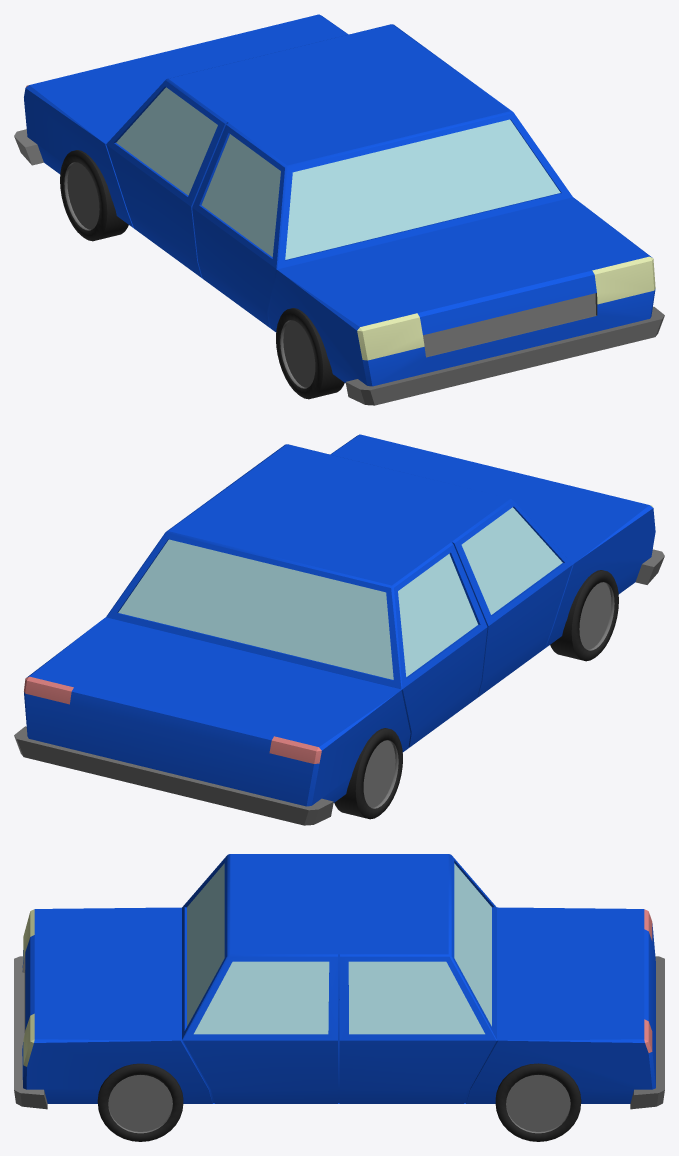
Rendered from mashinka.fbx.
The picture shows the model from 3 angles, top to bottom: view 1: azimuth 30°, elevation 25°; view 2: azimuth 150°, elevation 25°; view 3: azimuth 270°, elevation 25°; orthographic projection. The views are drawn at different scales.
Visible parts, largest first — view 1: Cube, Cylinder.003, Cylinder.001; view 2: Cube, Cylinder.003, Cylinder.001; view 3: Cube, Cylinder, Cylinder.002.
Boxes of the visible parts, x1,y1,x2,y2 form: Cube: [14, 14, 664, 405]; Cylinder.003: [276, 308, 344, 399]; Cylinder.001: [60, 150, 128, 241]; Cube: [14, 434, 664, 825]; Cylinder.003: [550, 570, 618, 661]; Cylinder.001: [334, 728, 402, 819]; Cube: [14, 854, 664, 1109]; Cylinder: [495, 1063, 581, 1141]; Cylinder.002: [97, 1063, 183, 1141].
Size of the model in its own units: 246 by 142 by 487.
